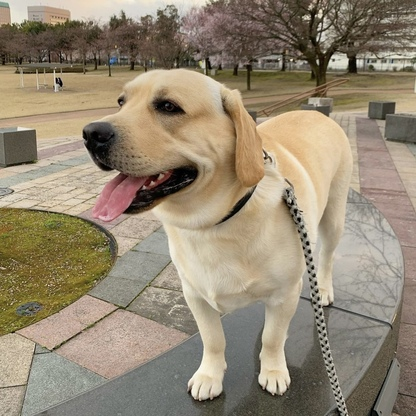labrado: (79, 66, 356, 407)
